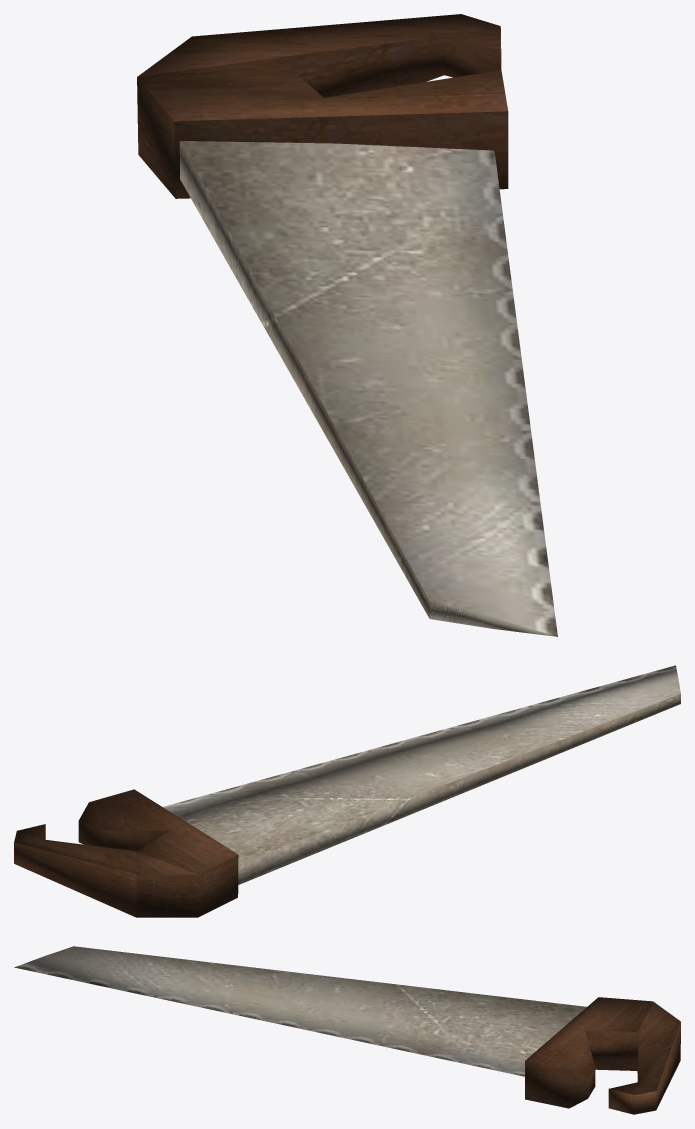
The model's file is ITMI_SAW.glb.
The picture shows the model from 3 angles, top to bottom: view 1: azimuth 30°, elevation 25°; view 2: azimuth 150°, elevation 25°; view 3: azimuth 270°, elevation 25°; orthographic projection. The views are drawn at different scales.
Visible parts, largest first — view 1: Mesh; view 2: Mesh; view 3: Mesh.
Part boxes in pixels (bbox=[...]): Mesh: bbox=[137, 14, 557, 636]; Mesh: bbox=[14, 665, 680, 917]; Mesh: bbox=[14, 946, 680, 1114].
Bounding box in the file's own units: 0.3409 × 0.04 × 0.623.
1 material, 1 textured.
